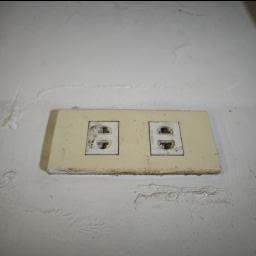outlet: (41, 104, 224, 175)
